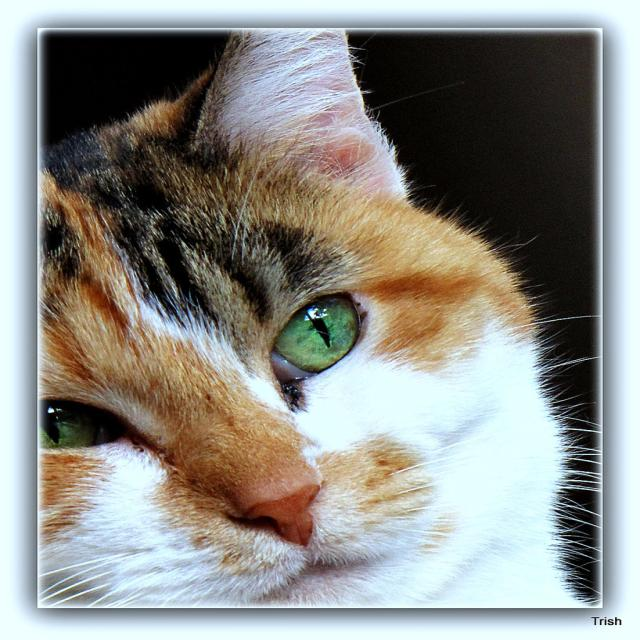Cat: (38, 26, 600, 607)
